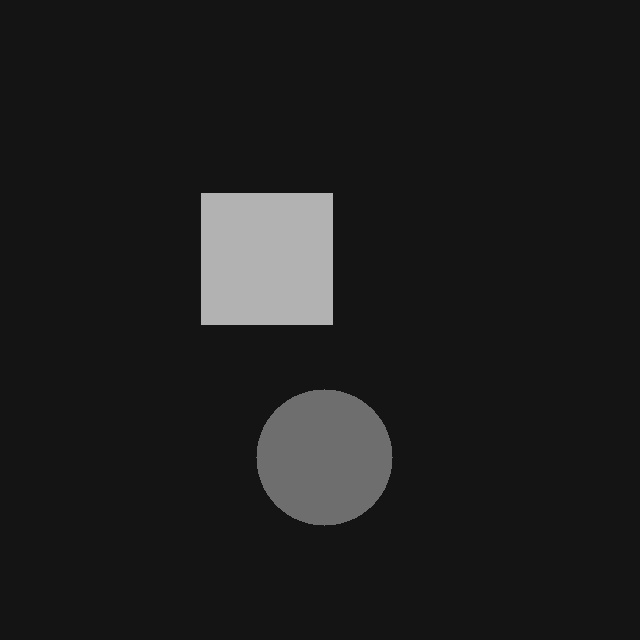circle: (256, 389, 392, 525)
square: (201, 193, 332, 324)
